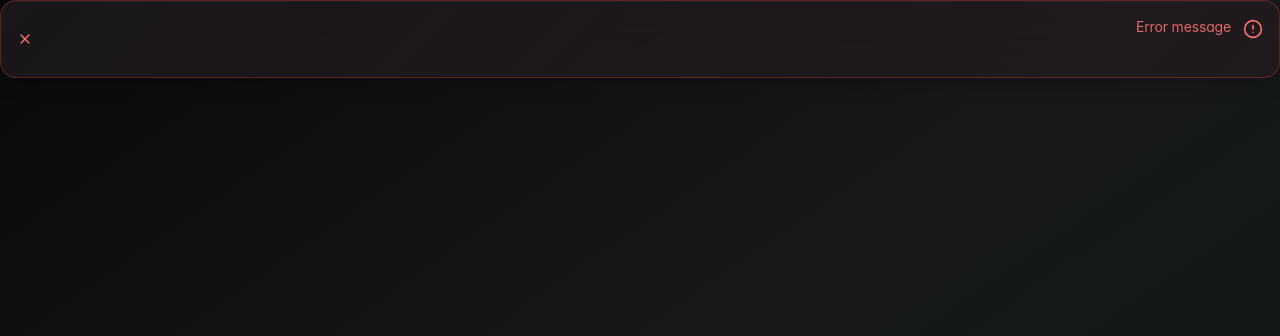
Test: ErrorMessage › should dismiss when close button is clicked
This screenshot has width=1280, height=336.
Click the button named "סגור".
click(25, 39)  # box x1=17 y1=17 x2=33 y2=61
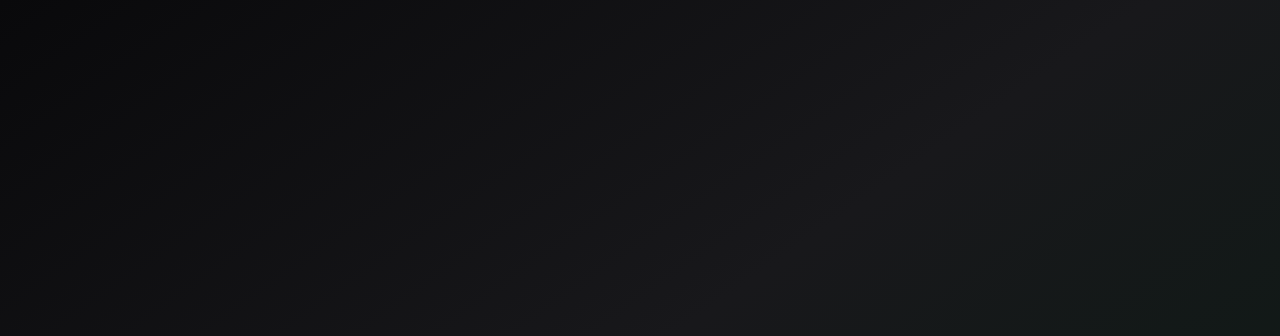
Result: the text "Error message" is gone
